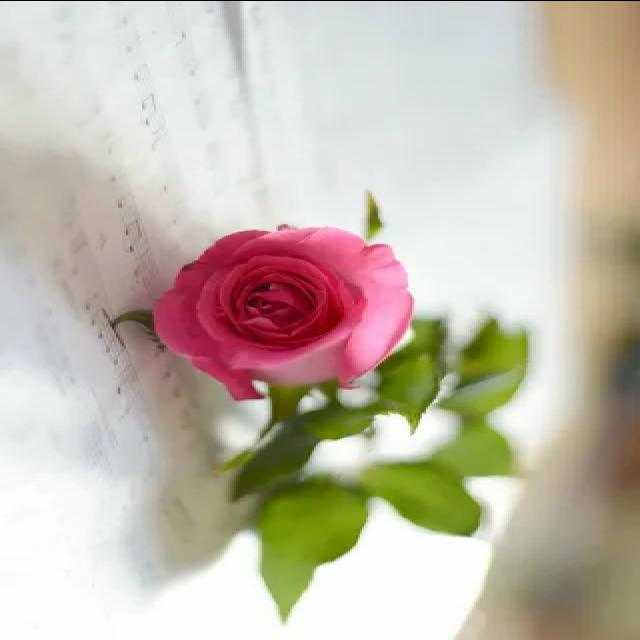rose: (132, 212, 438, 404)
